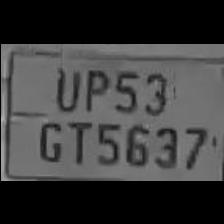3: (140, 66, 168, 114), (150, 119, 178, 167)
5: (110, 62, 140, 112), (90, 116, 120, 166)
6: (122, 117, 150, 167)
7: (178, 121, 206, 171)
G: (34, 114, 64, 162)
P: (80, 60, 108, 112)
T: (63, 114, 91, 164)
U: (50, 59, 78, 111)
